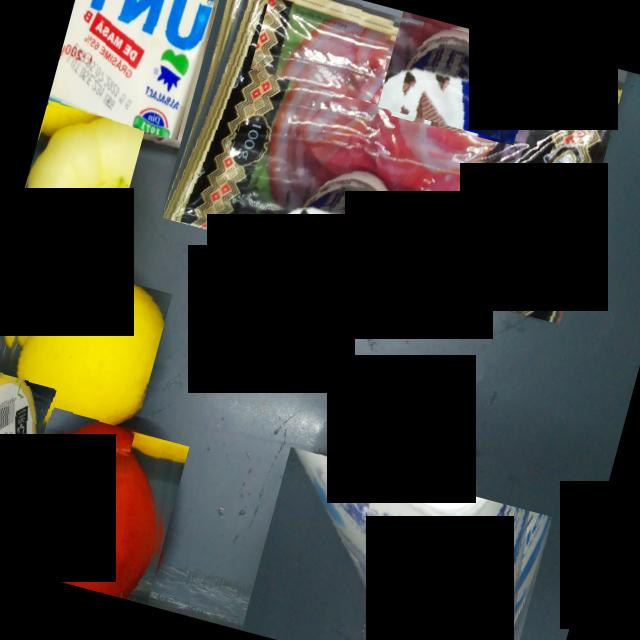bacon: (160, 0, 627, 324)
butter: (46, 0, 224, 140)
cheese: (0, 371, 61, 566)
lemon: (7, 409, 188, 605), (0, 254, 172, 452)
milk: (241, 446, 552, 640)
pepper: (0, 92, 147, 325)
yogurt: (378, 11, 524, 139), (249, 0, 401, 104)
